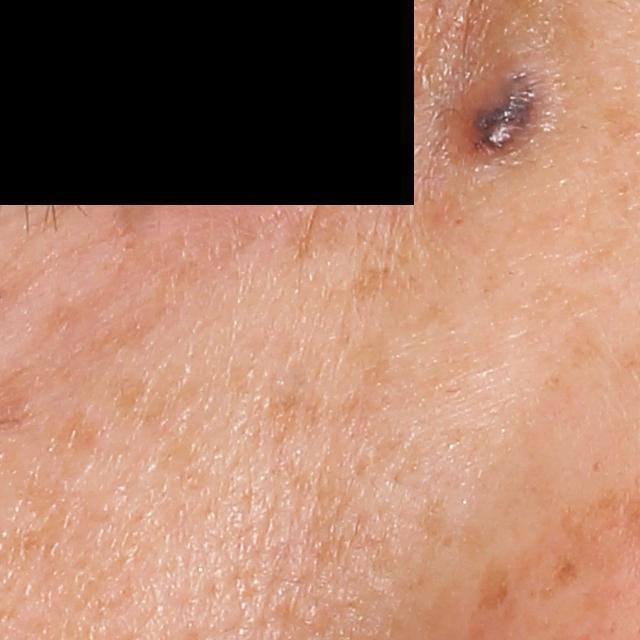melasma: (265, 350, 398, 449), (106, 367, 195, 428), (44, 411, 113, 473), (340, 261, 428, 304), (472, 554, 522, 621), (541, 558, 586, 594)
nevus: (462, 65, 552, 167)
